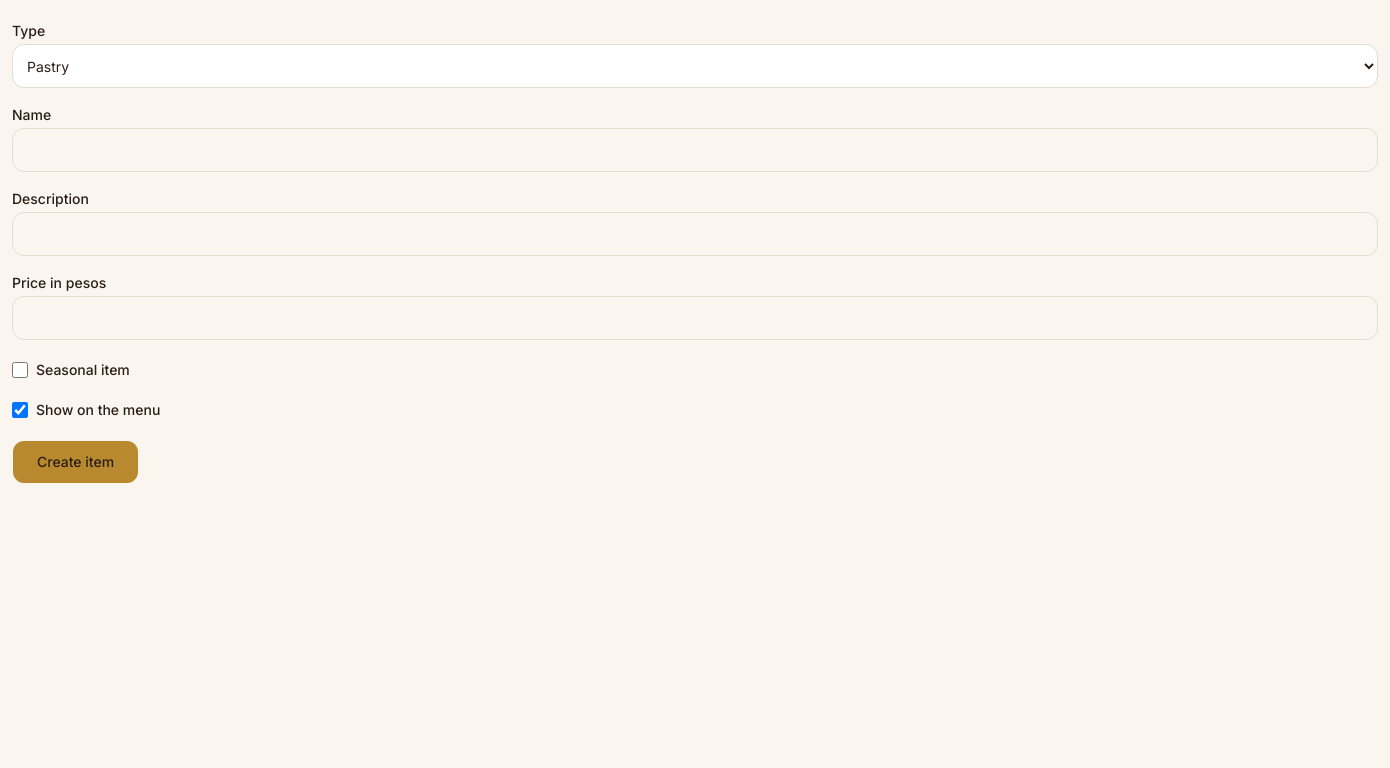
Test case: ProductForm › shows the recipe only for a signature drink
Expected: the field labelled "Base" is not shown
Step 1. Select "Signature drink" in the dropdown labelled "Type" → (695, 66), box [12, 44, 1378, 88]
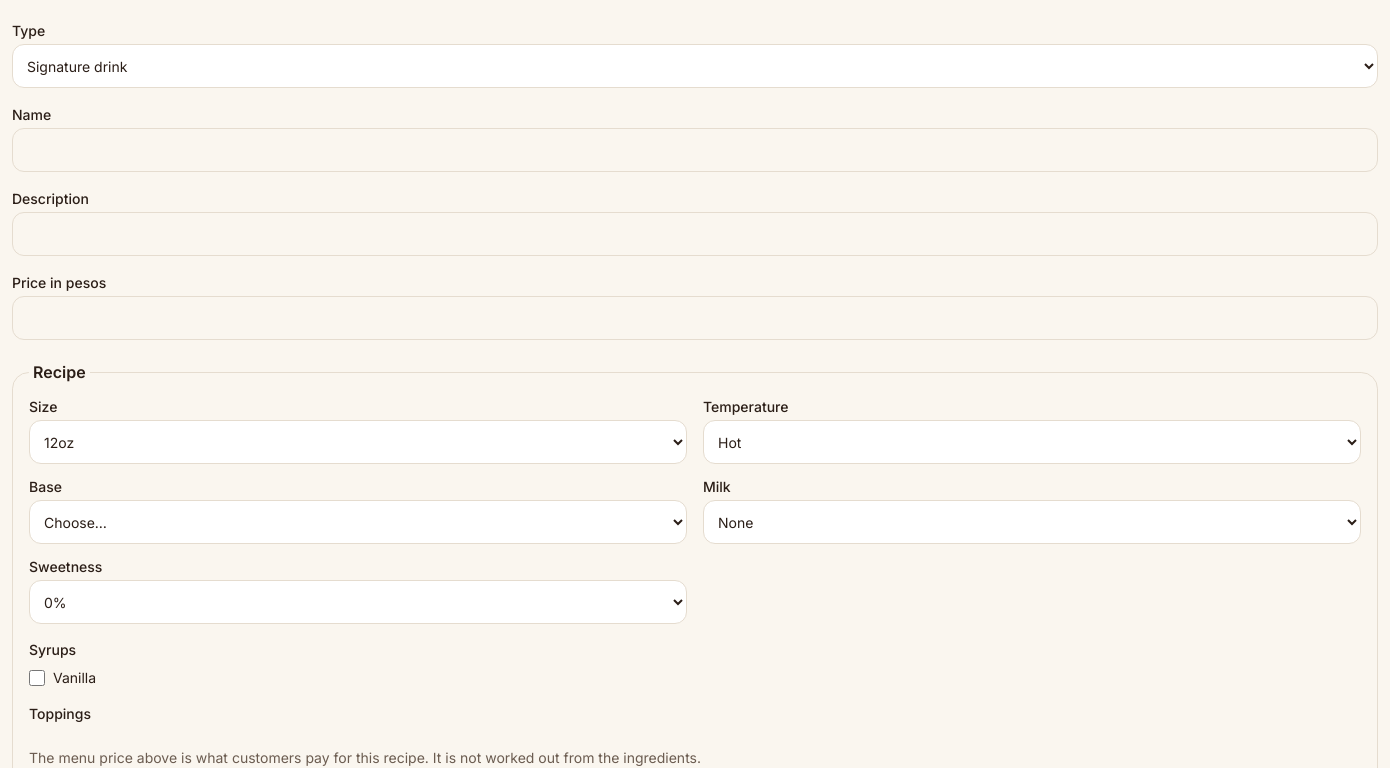
Expected: the dropdown labelled "Base" is shown, [29, 500, 687, 544]
Expected: the checkbox labelled "Vanilla" is shown, [29, 670, 45, 686]
